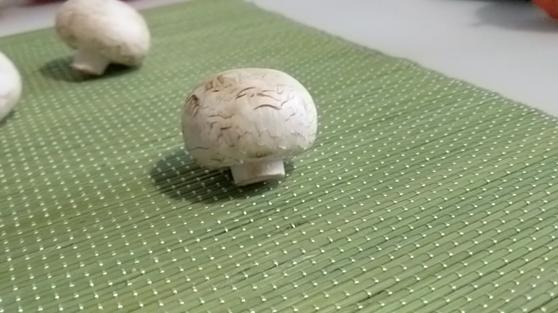champignon: (187, 71, 320, 191), (54, 1, 154, 80)
